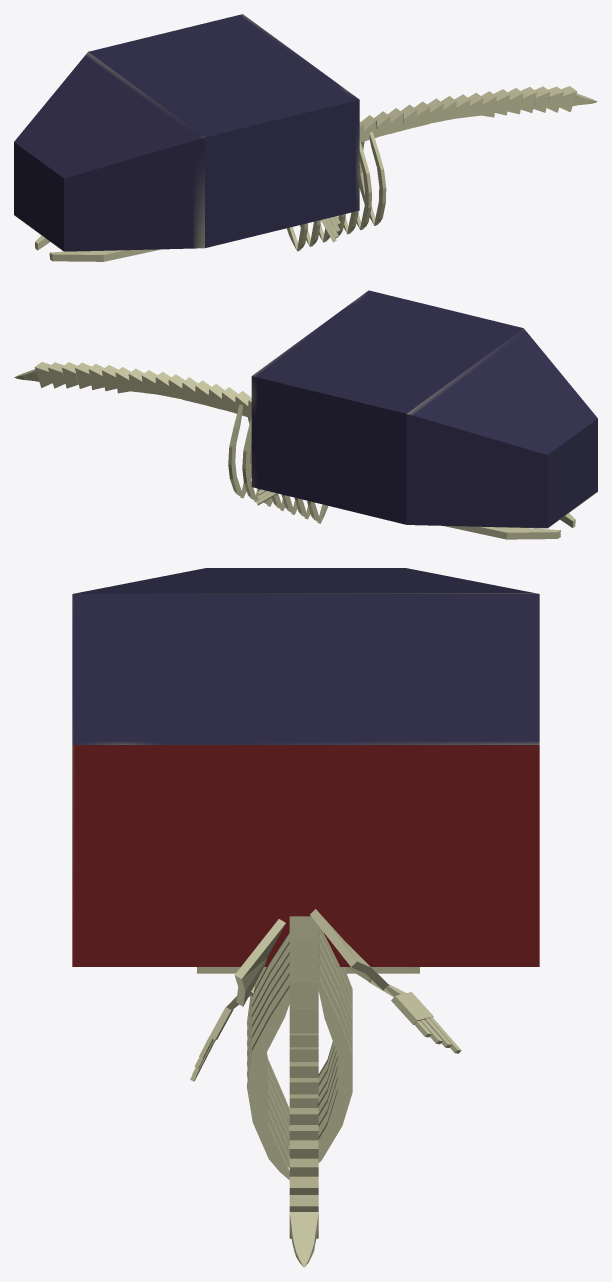
Rendered from 3DamagedWhale.obj.
3 renders of one model, top to bottom at view 1: azimuth 30°, elevation 25°; view 2: azimuth 150°, elevation 25°; view 3: azimuth 270°, elevation 25°, orthographic. The views are drawn at different scales.
Visible parts, largest first — view 1: 立方体; view 2: 立方体; view 3: 立方体.
Part boxes in pixels (x1,y1,x2,y2): 立方体: [14, 14, 597, 261]; 立方体: [14, 290, 597, 539]; 立方体: [72, 568, 539, 1267].
Size of the model in its own units: 8.45 by 2.76 by 3.06.
